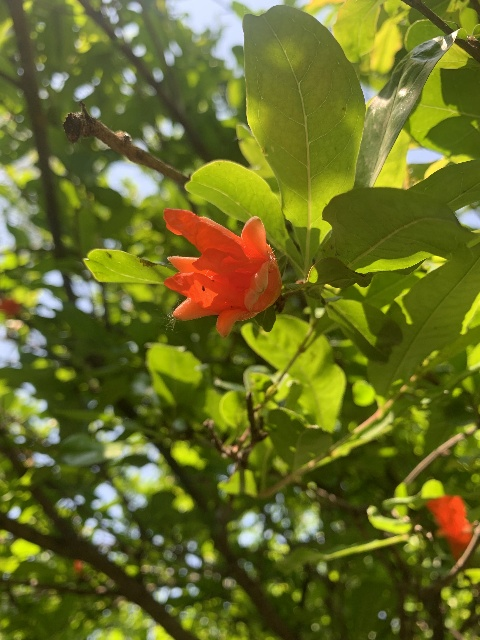flower: (162, 208, 281, 338), (425, 494, 475, 560)
